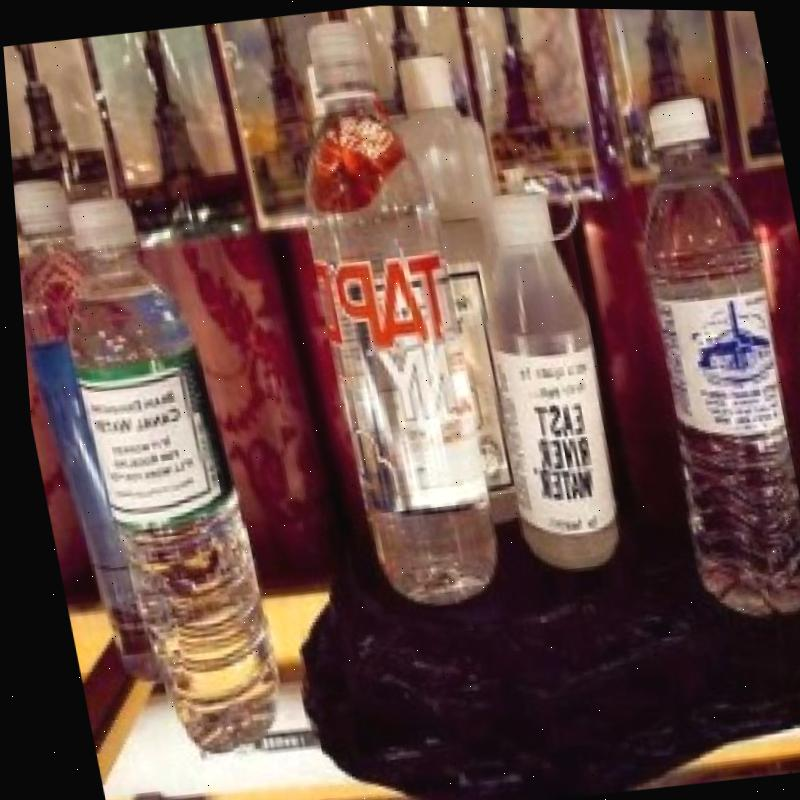botella: (265, 13, 508, 612), (36, 185, 281, 766), (602, 84, 800, 621), (10, 176, 151, 692)
